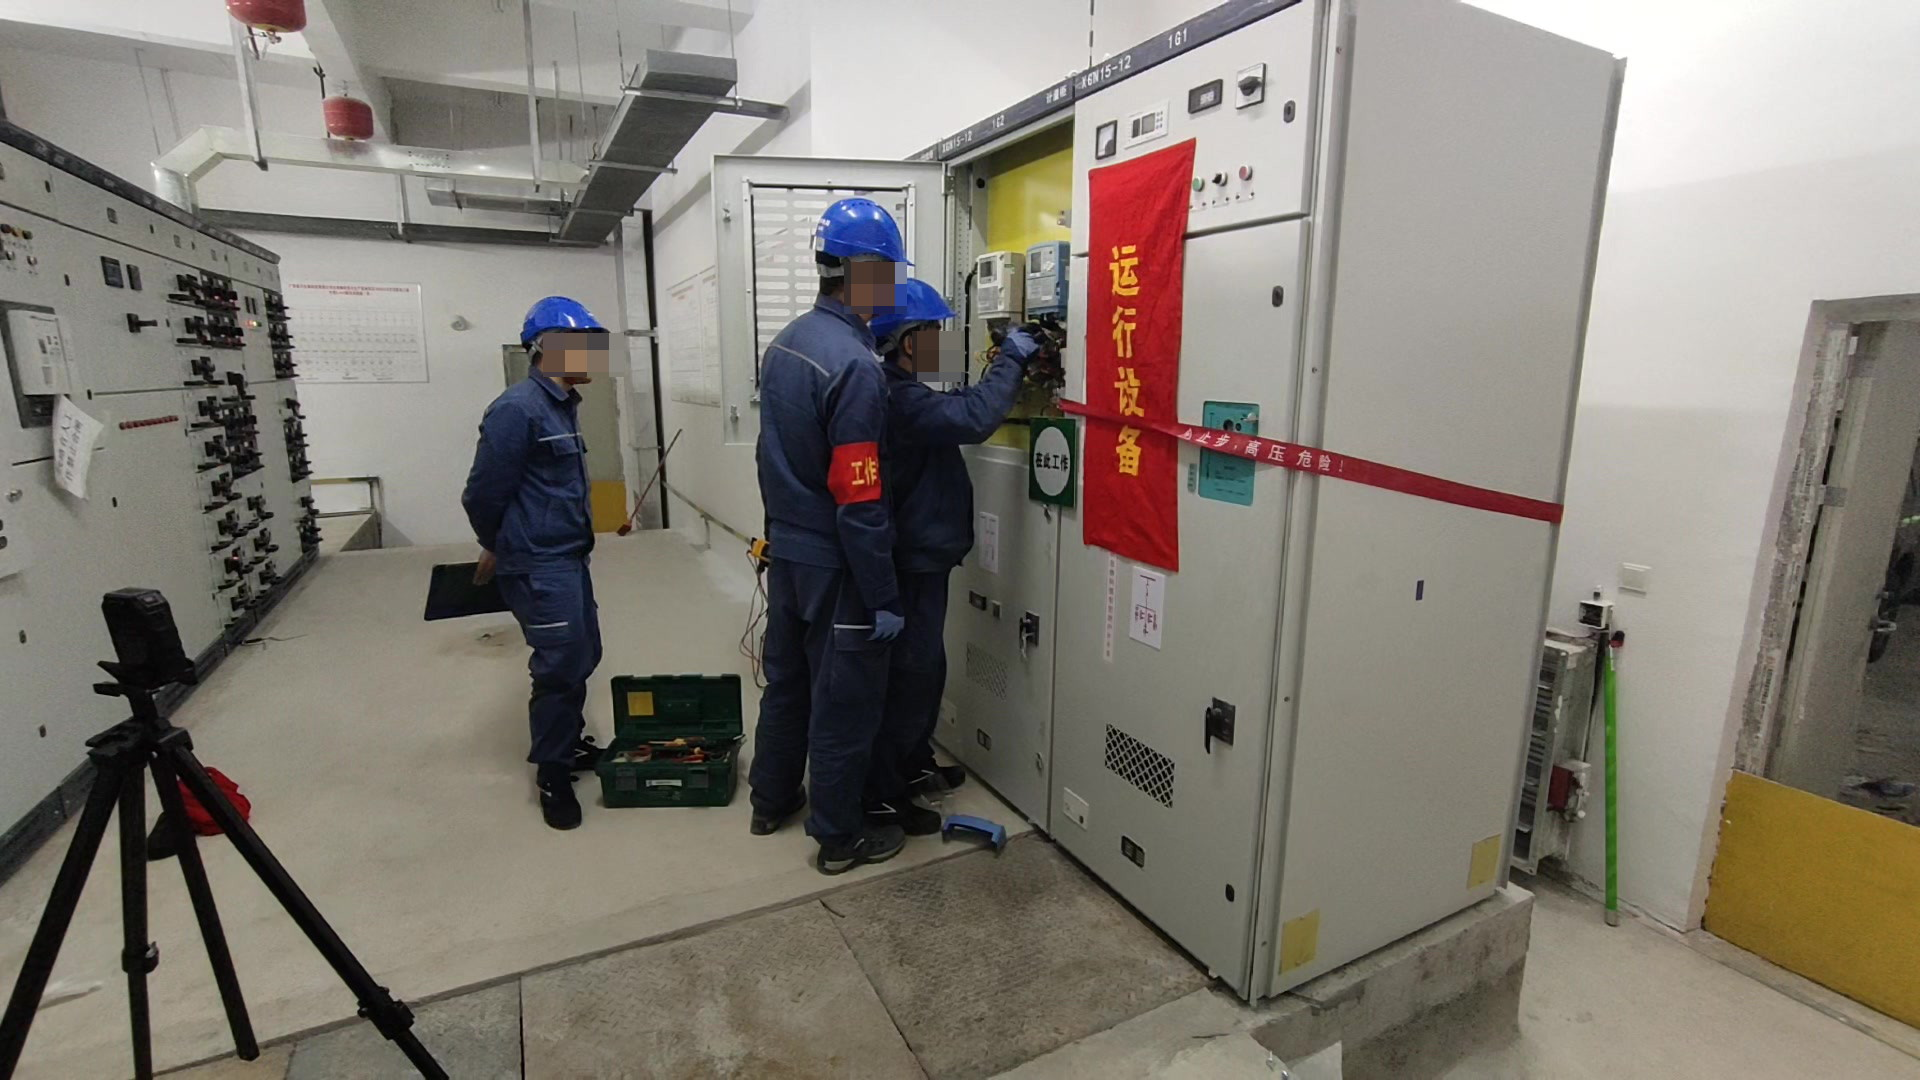badge: (826, 438, 886, 511)
downsuit: (746, 552, 892, 806), (500, 570, 606, 770), (895, 559, 965, 765)
glove: (996, 325, 1045, 366), (865, 601, 906, 646)
halt: (813, 195, 910, 311), (517, 294, 612, 384), (869, 280, 955, 378)
hand: (471, 547, 501, 589)
inear: (839, 256, 886, 315), (533, 334, 575, 382), (899, 329, 937, 380)
person: (742, 191, 910, 884), (869, 277, 1060, 840), (455, 289, 624, 831)
upsuit: (756, 303, 894, 550), (878, 343, 1023, 569), (462, 375, 601, 566)
worksign: (1024, 411, 1082, 512)
